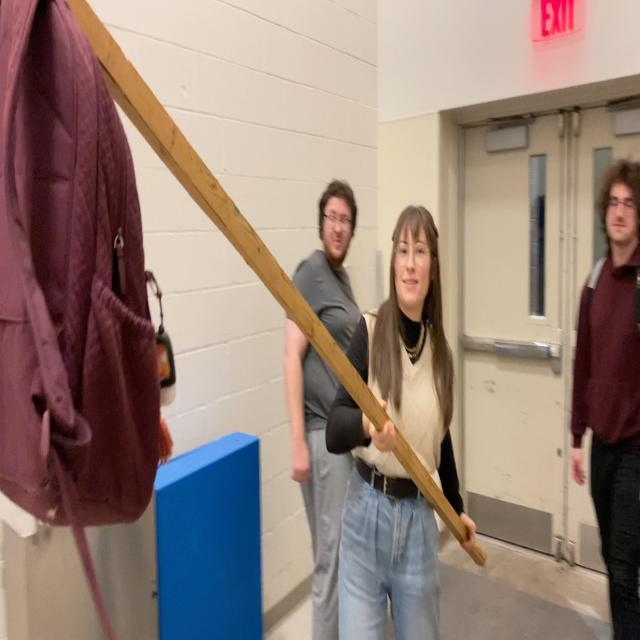Backpacks: (0, 0, 160, 530)
